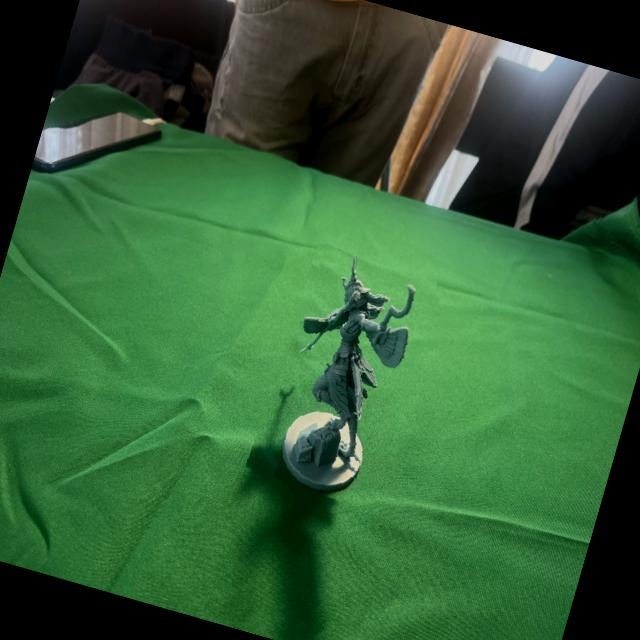isis: (247, 242, 442, 511)
